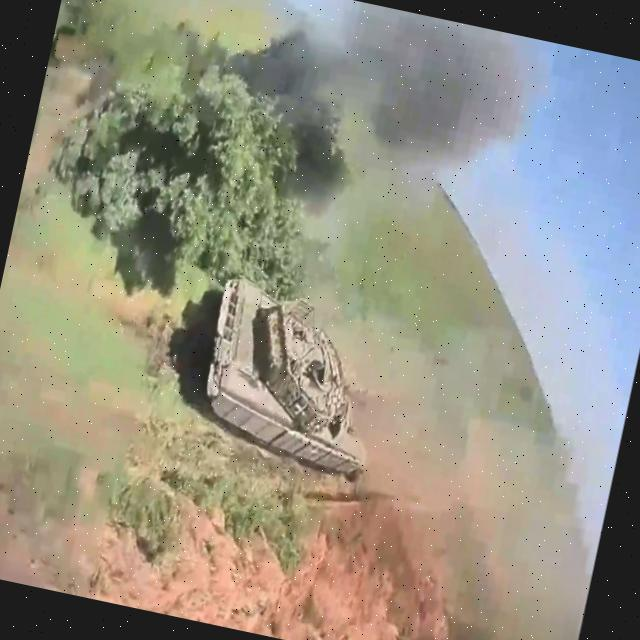MBT: (168, 268, 425, 488)
